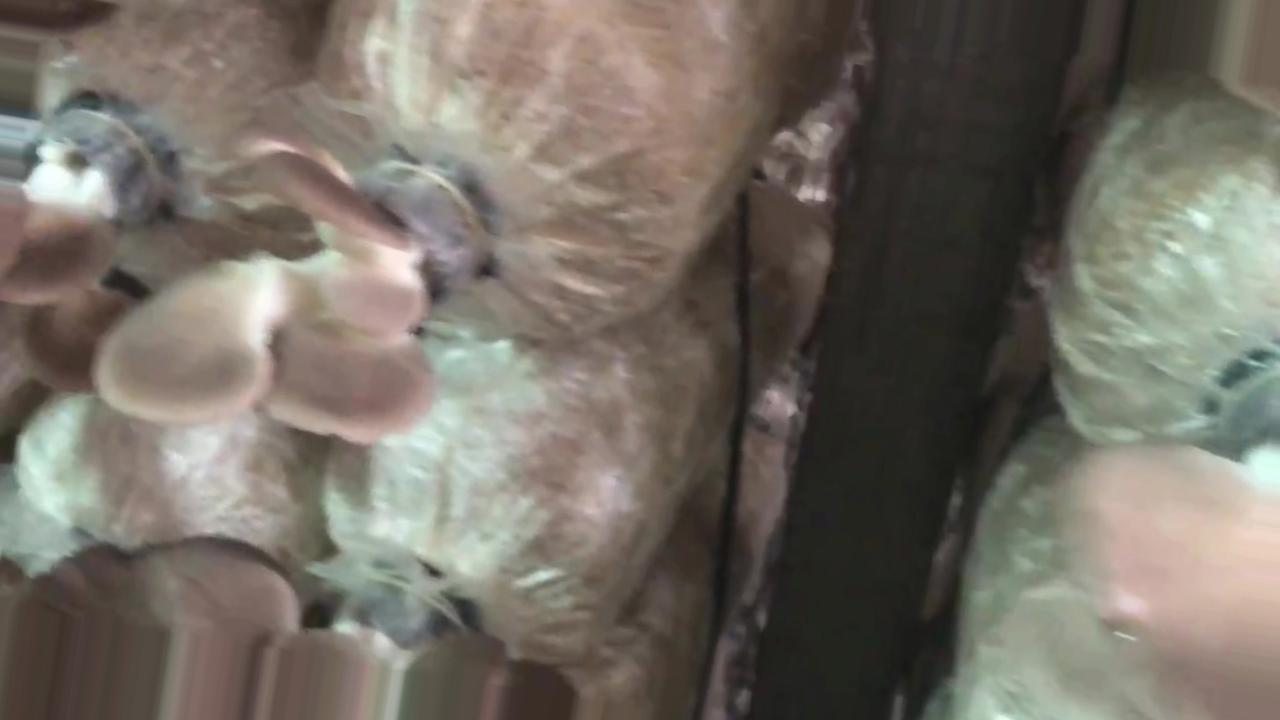nam: (89, 135, 486, 456), (1, 541, 580, 720), (1057, 417, 1269, 720), (1, 103, 174, 406)
